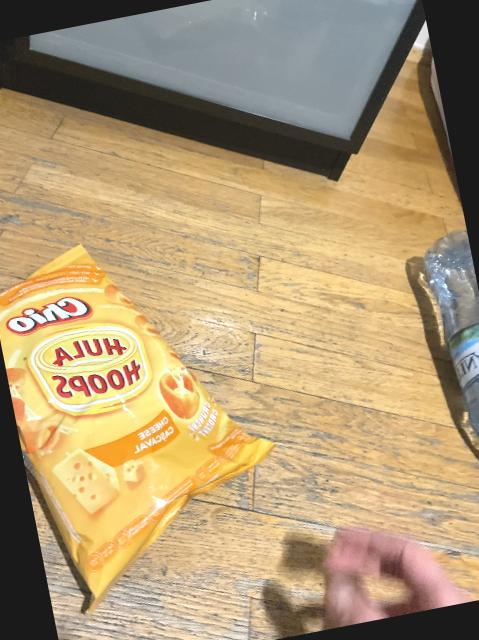Chio Hula Hoops Cheese 70g: (0, 216, 289, 623)
